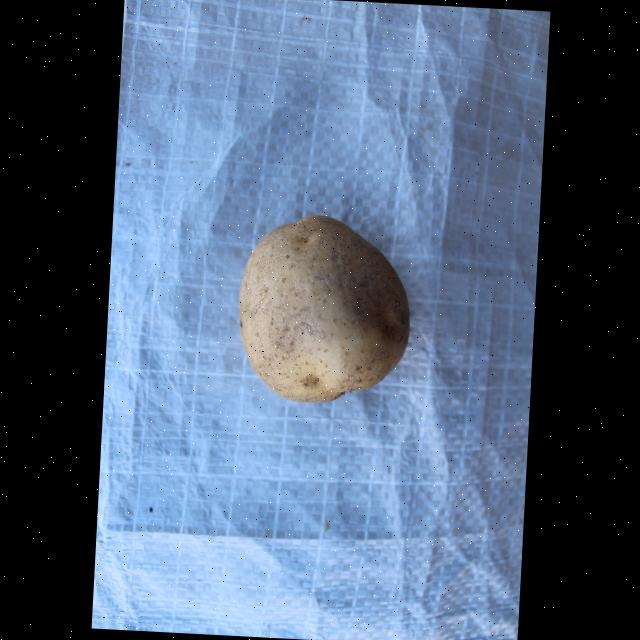Diseased-fungal potato: (230, 206, 418, 414)
